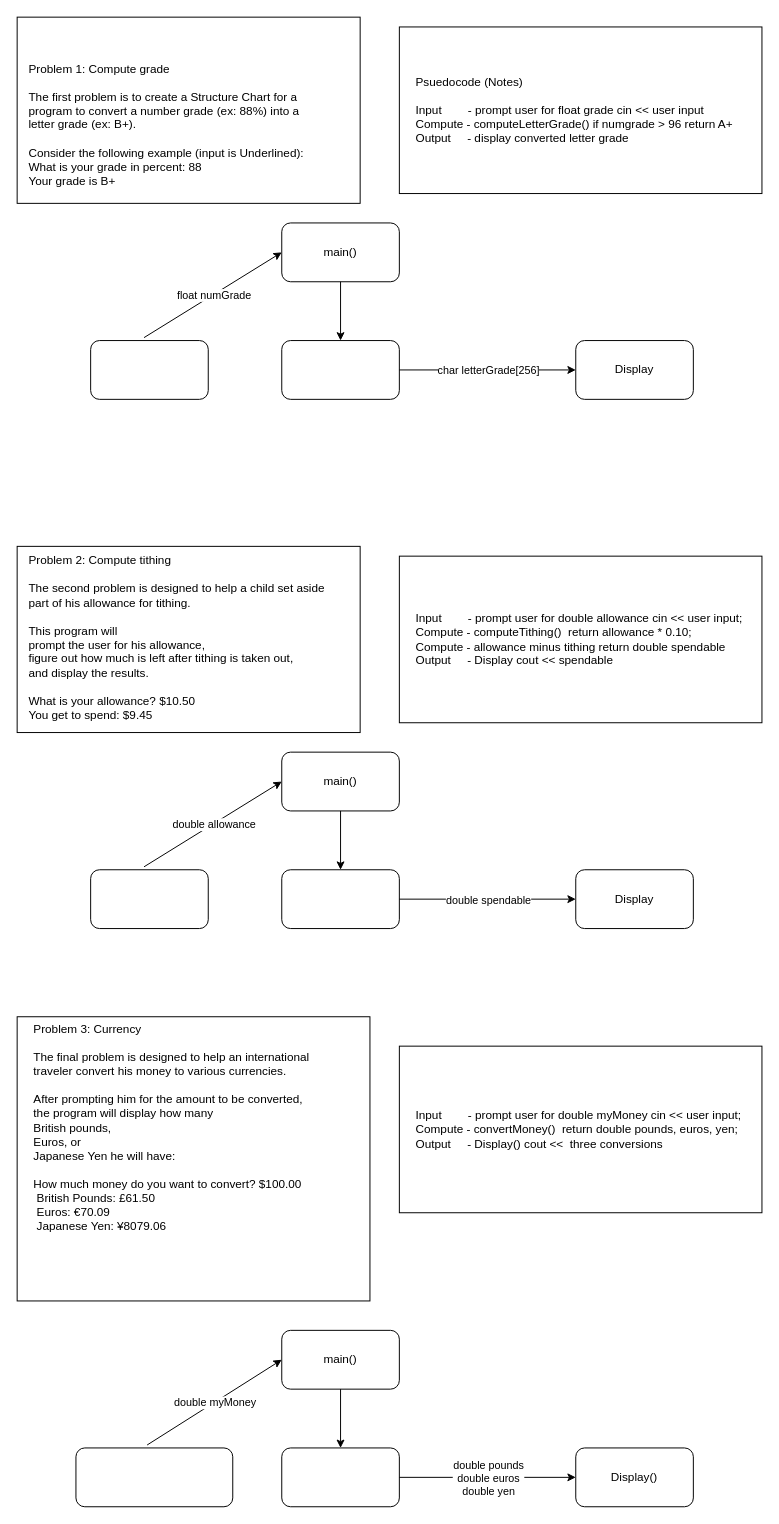
Image size: 779x1524. Some labels were removed from this diagram. Each missing label, with the box of its shape:
computeLetterGrade: (281, 340, 399, 399)
computeTithing: (281, 869, 399, 929)
convertMoney(): (281, 1447, 399, 1507)
getAllowance: (90, 869, 208, 929)
getAmountToConvert(): (75, 1447, 233, 1507)
getNumGrade: (90, 340, 208, 399)
